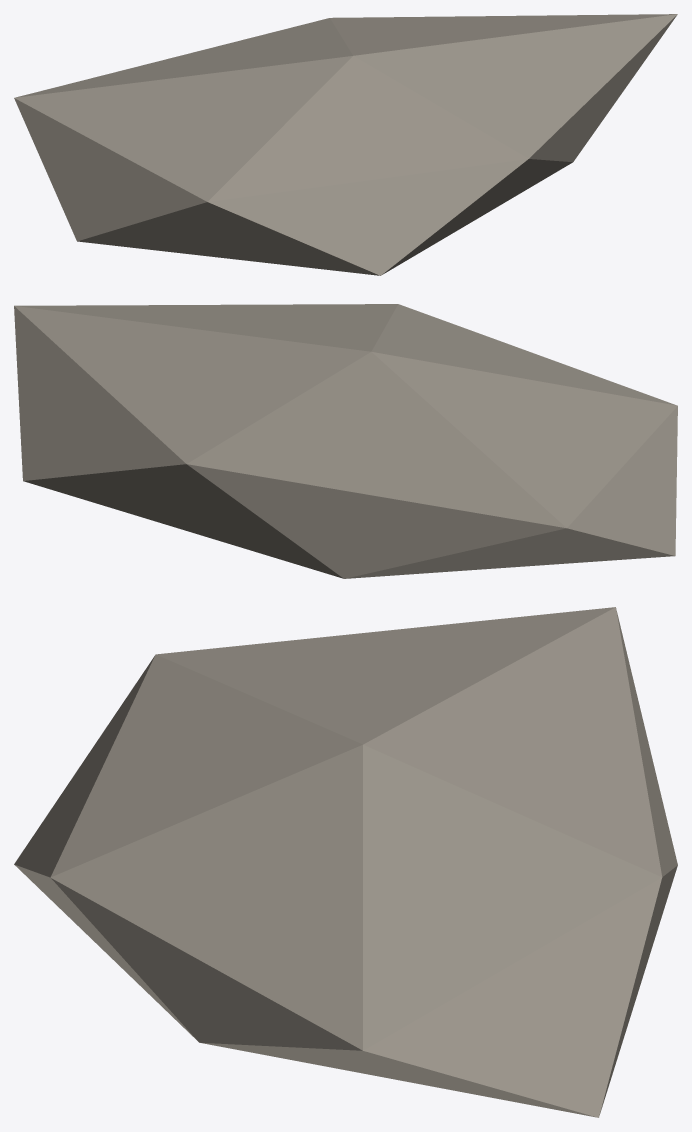
Rendered from HS_LP_Rock_Flat_02.fbx.
3 views of the same model, one above another, from view 1: azimuth 30°, elevation 25°; view 2: azimuth 150°, elevation 25°; view 3: azimuth 270°, elevation 25° (orthographic). The views are drawn at different scales.
Parts seen in each view (by area): view 1: HS_LP_Rock_Flat_02; view 2: HS_LP_Rock_Flat_02; view 3: HS_LP_Rock_Flat_02.
Boxes of the visible parts, box(x1,y1,x2,y2) form: HS_LP_Rock_Flat_02: box(14, 14, 677, 275); HS_LP_Rock_Flat_02: box(14, 304, 677, 578); HS_LP_Rock_Flat_02: box(14, 607, 677, 1117).
Bounding box in the file's own units: 180 × 40.22 × 110.
